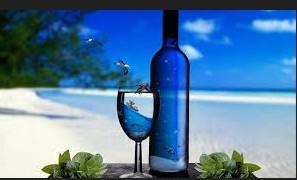bottle: (156, 8, 194, 173)
